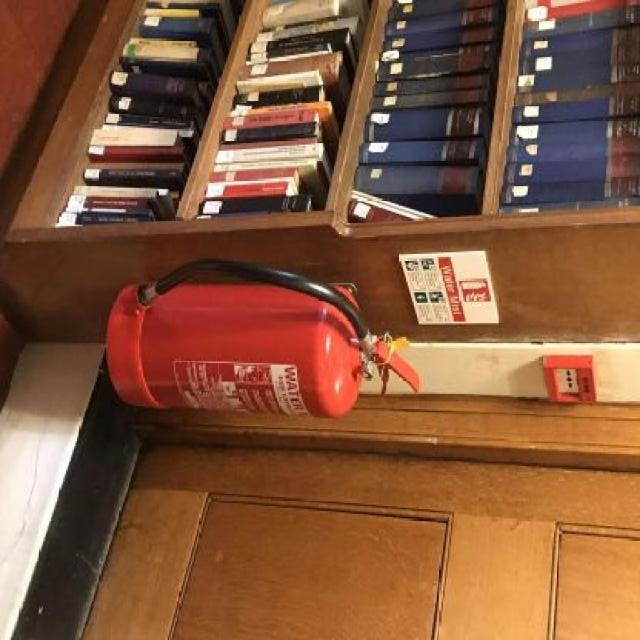fire extinguisher: (105, 260, 418, 418)
